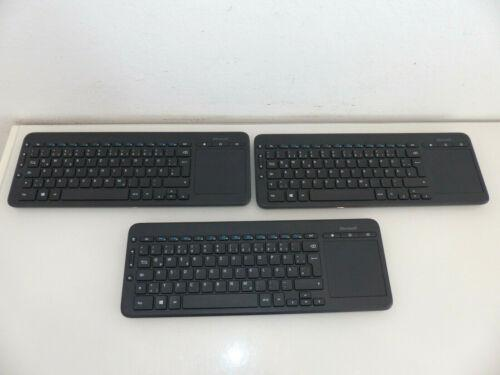keyboard: (120, 216, 395, 319), (7, 130, 252, 209), (254, 133, 491, 210)
